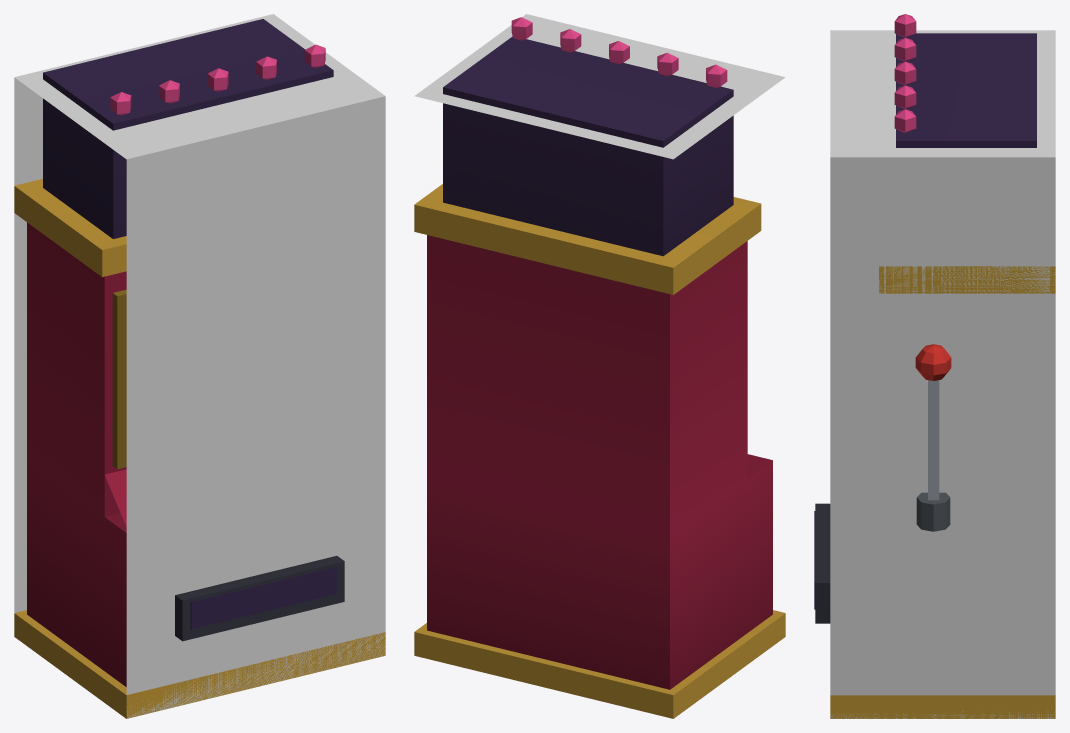
File: slot_machine.glb
The picture shows the model from 3 angles, left to right: view 1: azimuth 30°, elevation 25°; view 2: azimuth 150°, elevation 25°; view 3: azimuth 270°, elevation 25°; orthographic projection.
Parts seen in each view (by area): view 1: COL_0, slot_machine; view 2: slot_machine, COL_0; view 3: COL_0, slot_machine, DYN_lever.
Part boxes in pixels (<box>): COL_0: <box>14,14,385,718</box>; slot_machine: <box>14,19,385,718</box>; slot_machine: <box>414,17,785,718</box>; COL_0: <box>414,14,785,159</box>; COL_0: <box>830,30,1055,718</box>; slot_machine: <box>814,14,1055,718</box>; DYN_lever: <box>915,344,951,531</box>.
Bounding box in the file's own units: 1.82 × 3.49 × 1.29.
